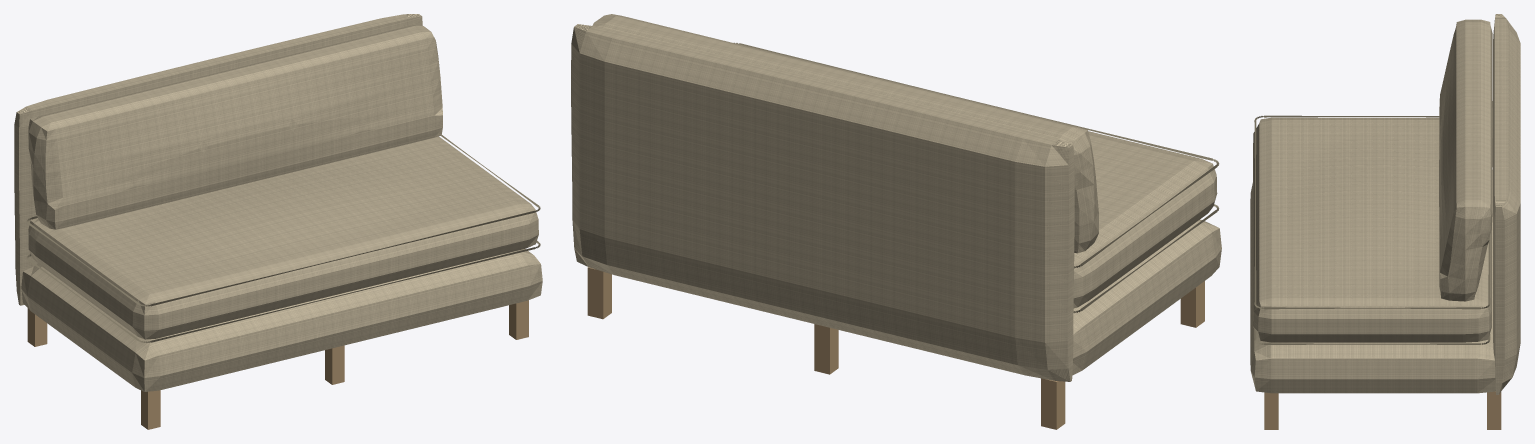
The model's file is HIN-LOV-std.glb.
3 views of the same model, side by side, from view 1: azimuth 30°, elevation 25°; view 2: azimuth 150°, elevation 25°; view 3: azimuth 270°, elevation 25° (orthographic). The views are drawn at different scales.
Parts seen in each view (by area): view 1: seat:fabric:eyJwcmVzZXQiOiJsaW5lbiIsIndhcnAiOiJvYXQiLCJ3ZWZ0, inside-back:fabric:eyJwcmVzZXQiOiJsaW5lbiIsIndhcnAiOiJvYXQiL, deck:fabric:eyJwcmVzZXQiOiJsaW5lbiIsIndhcnAiOiJvYXQiLCJ3ZWZ0, back-pad:fabric:eyJwcmVzZXQiOiJsaW5lbiIsIndhcnAiOiJvYXQiLCJ3, seat:piping:pbr, leg-fl:pbr, leg-fr:pbr, leg-cf:pbr, leg-bl:pbr; view 2: back-pad:fabric:eyJwcmVzZXQiOiJsaW5lbiIsIndhcnAiOiJvYXQiLCJ3, seat:fabric:eyJwcmVzZXQiOiJsaW5lbiIsIndhcnAiOiJvYXQiLCJ3ZWZ0, inside-back:fabric:eyJwcmVzZXQiOiJsaW5lbiIsIndhcnAiOiJvYXQiL, deck:fabric:eyJwcmVzZXQiOiJsaW5lbiIsIndhcnAiOiJvYXQiLCJ3ZWZ0, seat:piping:pbr, leg-bl:pbr, leg-br:pbr, leg-cb:pbr, leg-fl:pbr; view 3: seat:fabric:eyJwcmVzZXQiOiJsaW5lbiIsIndhcnAiOiJvYXQiLCJ3ZWZ0, inside-back:fabric:eyJwcmVzZXQiOiJsaW5lbiIsIndhcnAiOiJvYXQiL, deck:fabric:eyJwcmVzZXQiOiJsaW5lbiIsIndhcnAiOiJvYXQiLCJ3ZWZ0, back-pad:fabric:eyJwcmVzZXQiOiJsaW5lbiIsIndhcnAiOiJvYXQiLCJ3, seat:piping:pbr, leg-br:pbr, leg-fr:pbr.
Boxes of the visible parts, x1=… form: seat:fabric:eyJwcmVzZXQiOiJsaW5lbiIsIndhcnAiOiJvYXQiLCJ3ZWZ0: x1=28, y1=136, x2=538, y2=339; inside-back:fabric:eyJwcmVzZXQiOiJsaW5lbiIsIndhcnAiOiJvYXQiL: x1=28, y1=24, x2=442, y2=229; deck:fabric:eyJwcmVzZXQiOiJsaW5lbiIsIndhcnAiOiJvYXQiLCJ3ZWZ0: x1=21, y1=249, x2=542, y2=391; back-pad:fabric:eyJwcmVzZXQiOiJsaW5lbiIsIndhcnAiOiJvYXQiLCJ3: x1=14, y1=14, x2=422, y2=305; seat:piping:pbr: x1=26, y1=135, x2=540, y2=342; leg-fl:pbr: x1=141, y1=390, x2=160, y2=429; leg-fr:pbr: x1=509, y1=300, x2=528, y2=339; leg-cf:pbr: x1=325, y1=345, x2=344, y2=384; leg-bl:pbr: x1=27, y1=308, x2=47, y2=346; back-pad:fabric:eyJwcmVzZXQiOiJsaW5lbiIsIndhcnAiOiJvYXQiLCJ3: x1=571, y1=24, x2=1074, y2=381; seat:fabric:eyJwcmVzZXQiOiJsaW5lbiIsIndhcnAiOiJvYXQiLCJ3ZWZ0: x1=1073, y1=131, x2=1217, y2=308; inside-back:fabric:eyJwcmVzZXQiOiJsaW5lbiIsIndhcnAiOiJvYXQiL: x1=592, y1=14, x2=1098, y2=253; deck:fabric:eyJwcmVzZXQiOiJsaW5lbiIsIndhcnAiOiJvYXQiLCJ3ZWZ0: x1=1072, y1=219, x2=1221, y2=375; seat:piping:pbr: x1=734, y1=42, x2=1219, y2=313; leg-bl:pbr: x1=1041, y1=378, x2=1065, y2=429; leg-br:pbr: x1=587, y1=267, x2=611, y2=319; leg-cb:pbr: x1=814, y1=324, x2=838, y2=374; leg-fl:pbr: x1=1180, y1=281, x2=1204, y2=327; seat:fabric:eyJwcmVzZXQiOiJsaW5lbiIsIndhcnAiOiJvYXQiLCJ3ZWZ0: x1=1253, y1=117, x2=1491, y2=342; inside-back:fabric:eyJwcmVzZXQiOiJsaW5lbiIsIndhcnAiOiJvYXQiL: x1=1439, y1=19, x2=1492, y2=301; deck:fabric:eyJwcmVzZXQiOiJsaW5lbiIsIndhcnAiOiJvYXQiLCJ3ZWZ0: x1=1250, y1=170, x2=1495, y2=393; back-pad:fabric:eyJwcmVzZXQiOiJsaW5lbiIsIndhcnAiOiJvYXQiLCJ3: x1=1493, y1=14, x2=1520, y2=394; seat:piping:pbr: x1=1254, y1=115, x2=1490, y2=344; leg-br:pbr: x1=1487, y1=391, x2=1501, y2=429; leg-fr:pbr: x1=1264, y1=392, x2=1278, y2=429.
Size of the model in its own units: 1.45 by 0.8 by 0.85.
11 materials, 4 textured.
